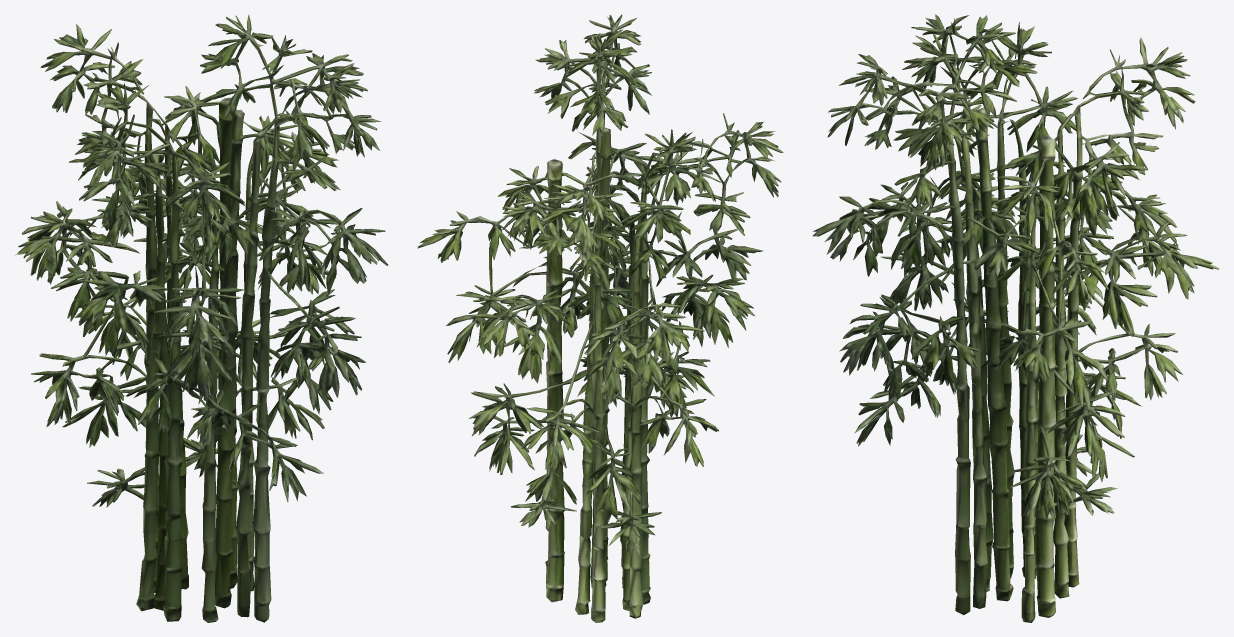
File: bamboo-high.glb
3 renders of one model, left to right at view 1: azimuth 30°, elevation 25°; view 2: azimuth 150°, elevation 25°; view 3: azimuth 270°, elevation 25°, orthographic. The views are drawn at different scales.
Size of the model in its own units: 0.5727 by 0.9999 by 0.6334.
Materials: 1 (1 with a texture image).
